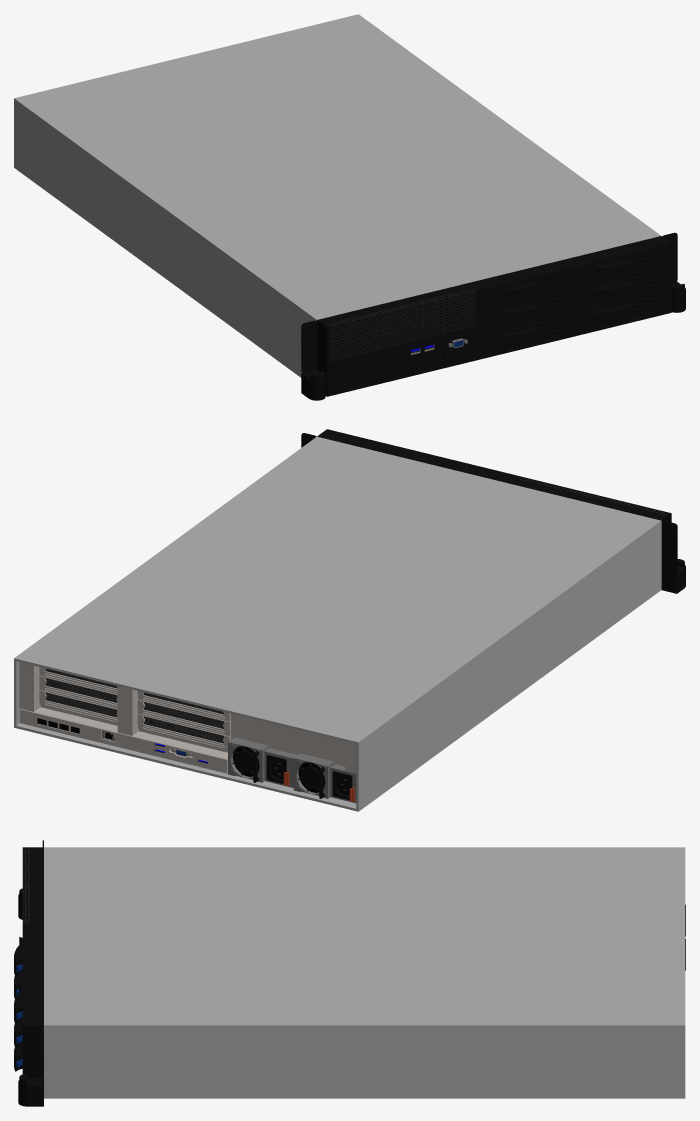
The model's file is Lenovo_x3650.fbx.
The picture shows the model from 3 angles, top to bottom: view 1: azimuth 30°, elevation 25°; view 2: azimuth 150°, elevation 25°; view 3: azimuth 270°, elevation 25°; orthographic projection. The views are drawn at different scales.
Visible parts, largest first — view 1: Lenovo_x3650; view 2: Lenovo_x3650; view 3: Lenovo_x3650.
Part boxes in pixels (bbox=[...]): Lenovo_x3650: bbox=[14, 14, 685, 400]; Lenovo_x3650: bbox=[14, 429, 685, 811]; Lenovo_x3650: bbox=[14, 840, 685, 1106].
Bounding box in the file's own units: 484 × 85.4 × 708.
Materials: 11 (2 with a texture image).
